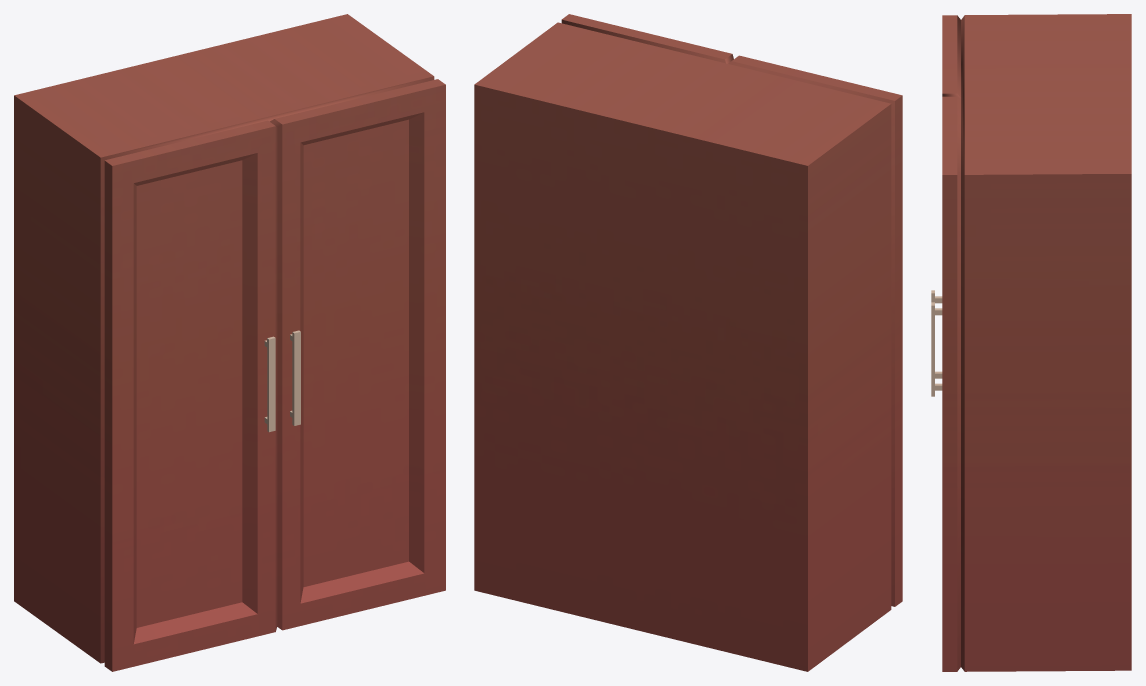
File: SM_Cabinet_Bedroom_1_04.fbx
3 views of the same model, side by side, from view 1: azimuth 30°, elevation 25°; view 2: azimuth 150°, elevation 25°; view 3: azimuth 270°, elevation 25° (orthographic).
Parts seen in each view (by area): view 1: SM_Cabinet_Bedroom_1_04; view 2: SM_Cabinet_Bedroom_1_04; view 3: SM_Cabinet_Bedroom_1_04.
Part boxes in pixels (bbox=[...]): SM_Cabinet_Bedroom_1_04: bbox=[14, 14, 445, 671]; SM_Cabinet_Bedroom_1_04: bbox=[474, 14, 902, 671]; SM_Cabinet_Bedroom_1_04: bbox=[931, 14, 1131, 671].
Bounding box in the file's own units: 201 × 290 × 106.
